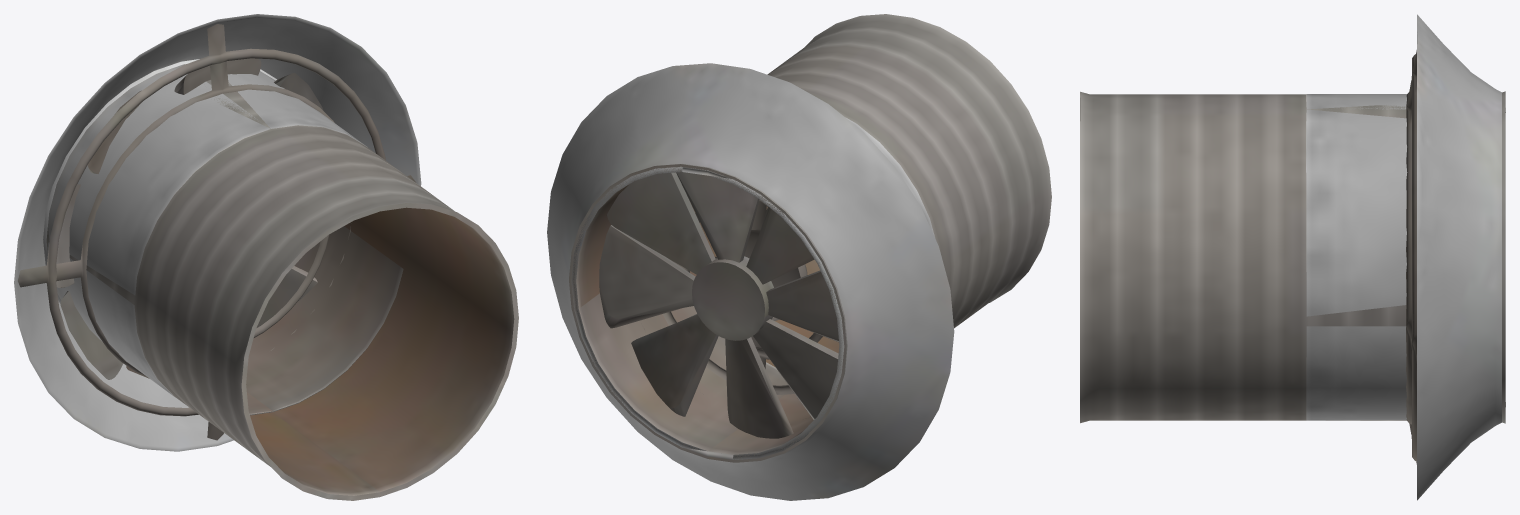
File: inline_fan.glb
3 renders of one model, left to right at view 1: azimuth 30°, elevation 25°; view 2: azimuth 150°, elevation 25°; view 3: azimuth 270°, elevation 25°, orthographic. The views are drawn at different scales.
Parts seen in each view (by area): view 1: modular_airduct_circular_single, modular_airduct_circular_fan, modular_airduct_circular_smooth_single; view 2: modular_airduct_circular_fan, modular_airduct_circular_single, modular_airduct_circular_smooth_single; view 3: modular_airduct_circular_single, modular_airduct_circular_fan, modular_airduct_circular_smooth_single.
Part boxes in pixels (x1,y1,x2,y2): modular_airduct_circular_single: (46, 64, 518, 500); modular_airduct_circular_fan: (14, 14, 421, 451); modular_airduct_circular_smooth_single: (43, 59, 403, 415); modular_airduct_circular_fan: (547, 63, 954, 500); modular_airduct_circular_single: (569, 14, 1051, 462); modular_airduct_circular_smooth_single: (579, 117, 934, 459); modular_airduct_circular_single: (1080, 91, 1505, 423); modular_airduct_circular_fan: (1406, 14, 1501, 500); modular_airduct_circular_smooth_single: (1306, 94, 1505, 420).
Size of the model in its own units: 0.5428 by 0.5432 by 0.4743.
Materials: 1 (1 with a texture image).
